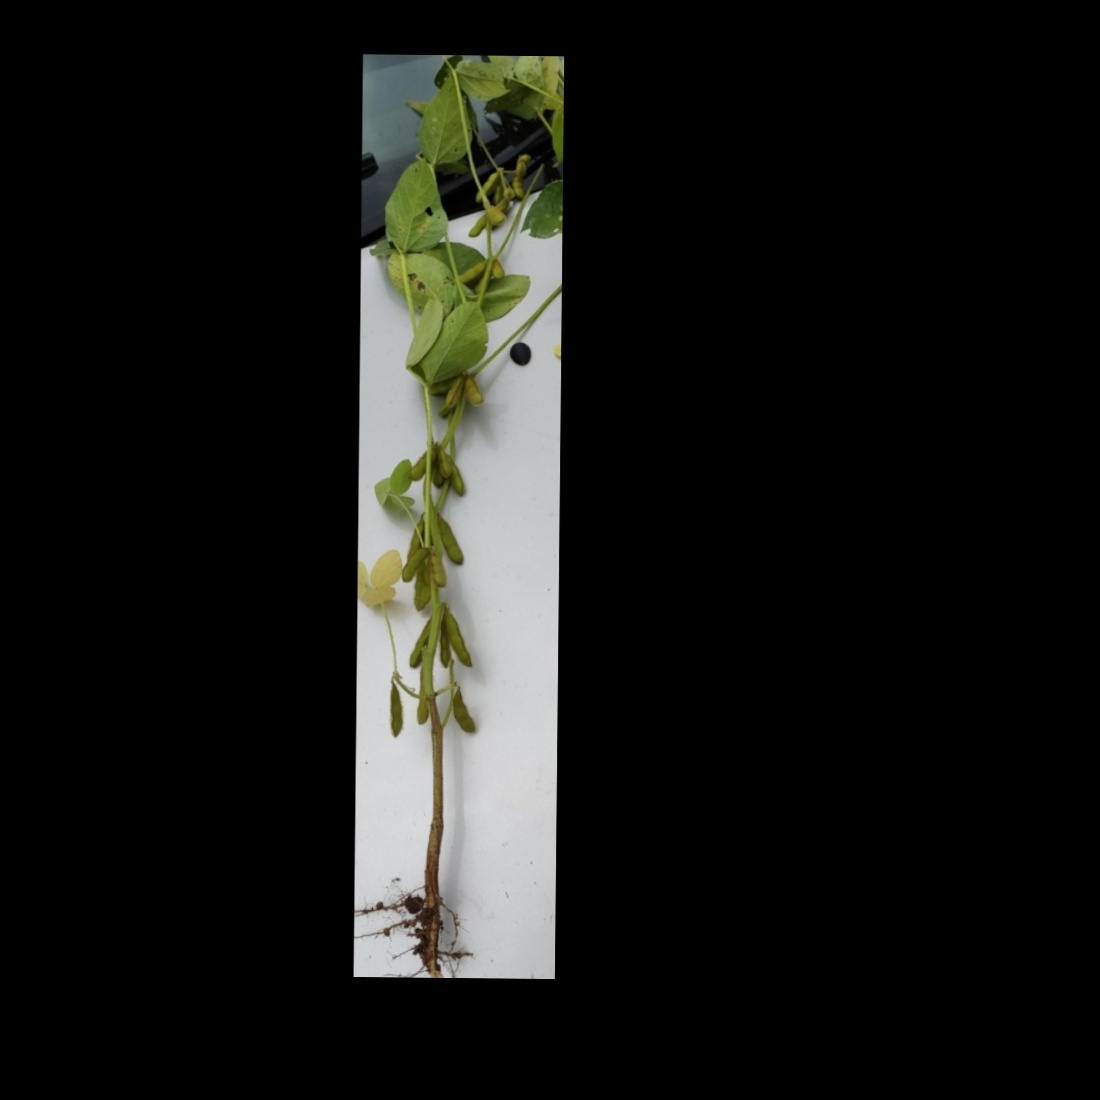pod: (444, 613, 473, 671), (435, 516, 468, 565), (448, 687, 477, 738), (398, 545, 430, 584), (387, 680, 404, 740), (475, 167, 500, 204), (461, 374, 485, 408)
soy: (364, 58, 560, 959)
